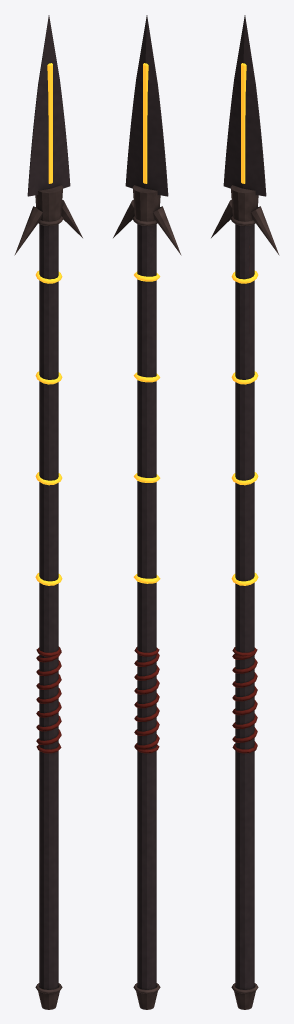
File: 06_volcano_spear.fbx
3 renders of one model, left to right at view 1: azimuth 30°, elevation 25°; view 2: azimuth 150°, elevation 25°; view 3: azimuth 330°, elevation 25°, orthographic.
Visible parts, largest first — view 1: Weapon; view 2: Weapon; view 3: Weapon.
Boxes of the visible parts, x1,y1,x2,y2 form: Weapon: [14, 15, 82, 1009]; Weapon: [113, 15, 181, 1009]; Weapon: [211, 15, 279, 1009].
Bounding box in the file's own units: 16.36 × 224 × 6.05.
2 materials, 1 textured.
